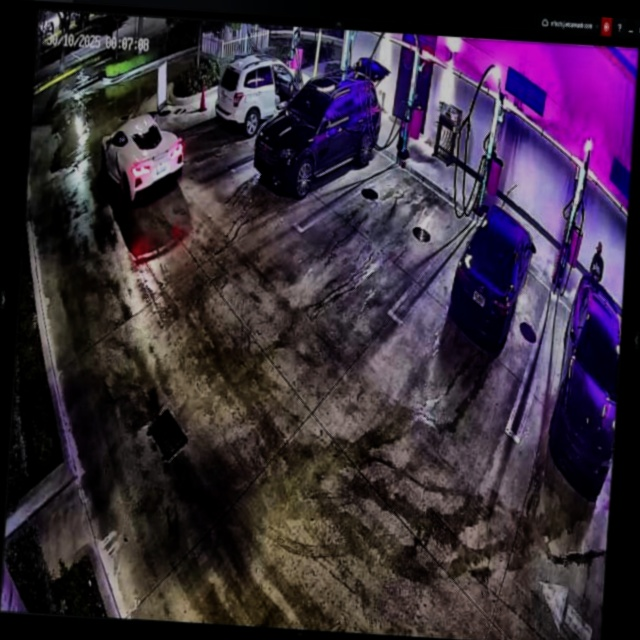Car: (253, 66, 382, 201), (450, 203, 536, 347), (98, 109, 186, 207)
